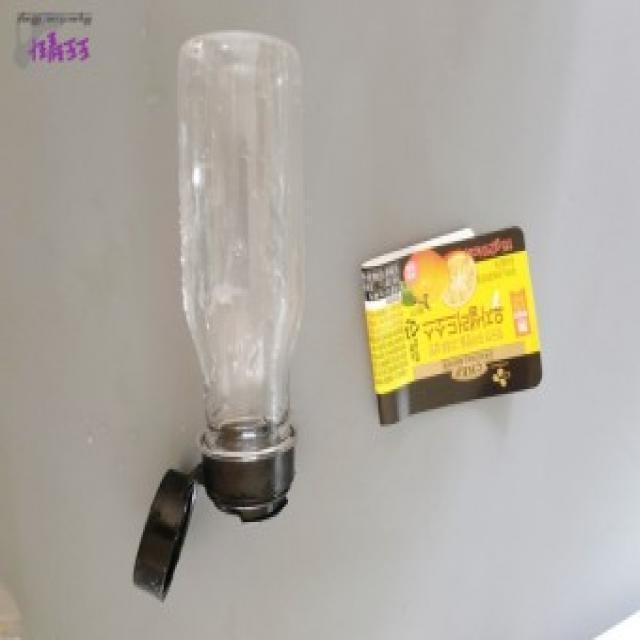BotolPlastik: (136, 43, 328, 612)
